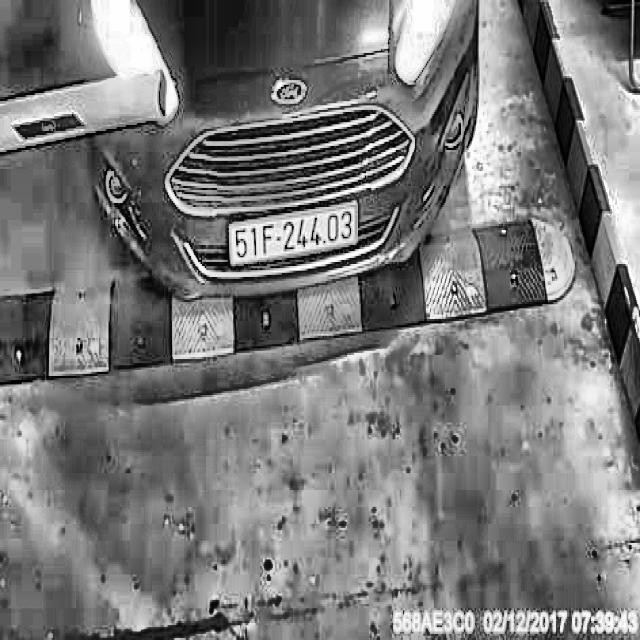plate: (226, 196, 363, 272)
